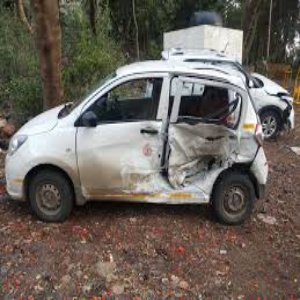door: (98, 128, 224, 202)
